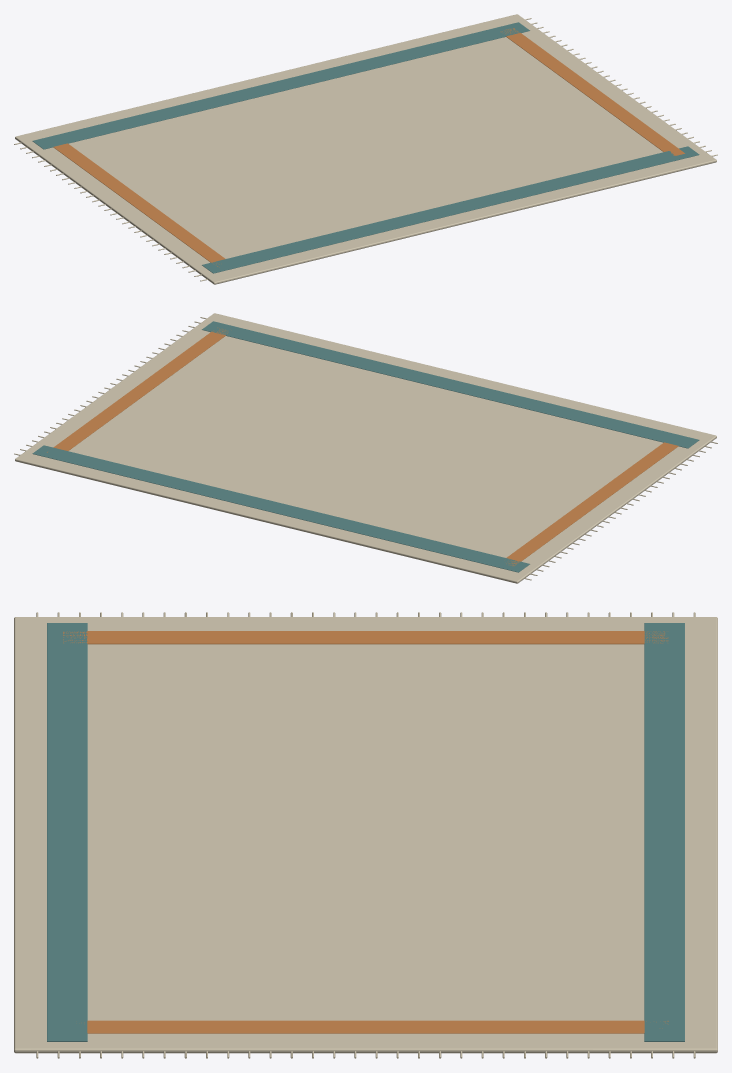
File: woven-rug-240.glb
The picture shows the model from 3 angles, top to bottom: view 1: azimuth 30°, elevation 25°; view 2: azimuth 150°, elevation 25°; view 3: azimuth 270°, elevation 25°; orthographic projection. The views are drawn at different scales.
Visible parts, largest first — view 1: woven-rug-240 / 17 / oatmeal linen, woven-rug-240 / 16 / ocean woven cloth, woven-rug-240 / 18 / saffron textile; view 2: woven-rug-240 / 17 / oatmeal linen, woven-rug-240 / 16 / ocean woven cloth, woven-rug-240 / 18 / saffron textile; view 3: woven-rug-240 / 17 / oatmeal linen, woven-rug-240 / 16 / ocean woven cloth, woven-rug-240 / 18 / saffron textile.
Boxes of the visible parts, x1,y1,x2,y2 form: woven-rug-240 / 17 / oatmeal linen: (14,14,717,284); woven-rug-240 / 16 / ocean woven cloth: (32,22,699,273); woven-rug-240 / 18 / saffron textile: (53,28,684,267); woven-rug-240 / 17 / oatmeal linen: (14,313,717,583); woven-rug-240 / 16 / ocean woven cloth: (32,321,699,572); woven-rug-240 / 18 / saffron textile: (47,327,678,565); woven-rug-240 / 17 / oatmeal linen: (14,612,717,1058); woven-rug-240 / 16 / ocean woven cloth: (47,623,684,1041); woven-rug-240 / 18 / saffron textile: (63,631,668,1033).
Bounding box in the file's own units: 2.47 × 0.014 × 1.65.
